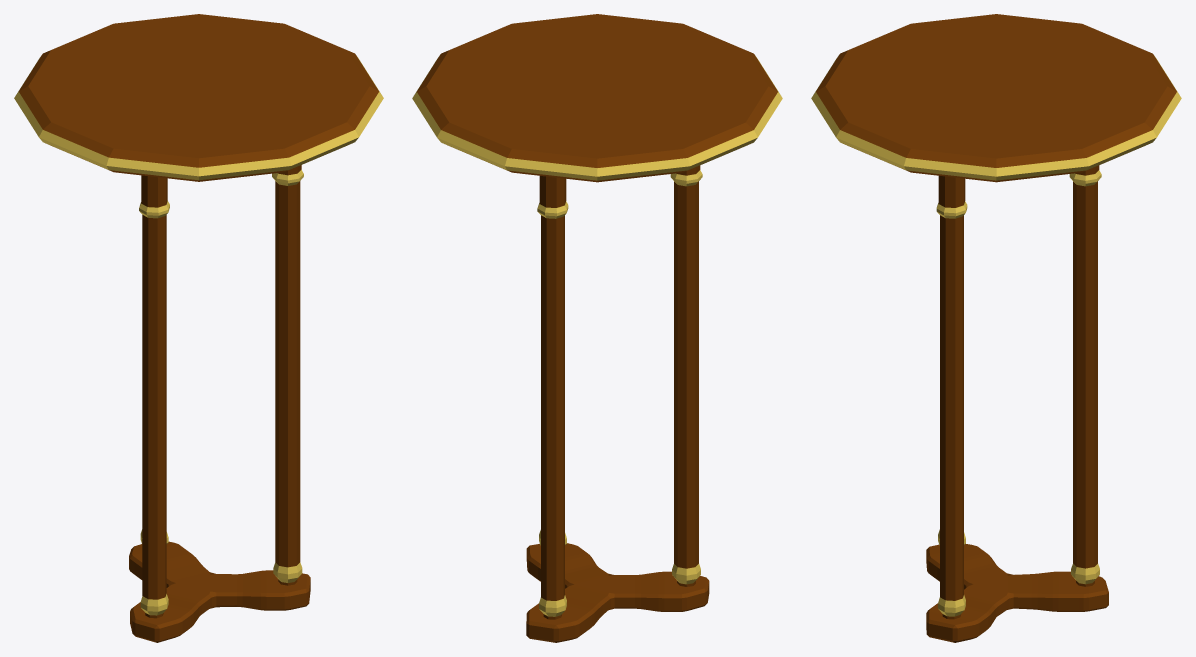
The model's file is Tall lil table.fbx.
The picture shows the model from 3 angles, left to right: view 1: azimuth 30°, elevation 25°; view 2: azimuth 150°, elevation 25°; view 3: azimuth 270°, elevation 25°; orthographic projection.
Visible parts, largest first — view 1: Cylinder.001; view 2: Cylinder.001; view 3: Cylinder.001.
Part boxes in pixels (left/top/right/bottom): Cylinder.001: left=14, top=14, right=383, bottom=642; Cylinder.001: left=412, top=14, right=782, bottom=642; Cylinder.001: left=811, top=14, right=1181, bottom=642.
Bounding box in the file's own units: 54.09 × 83 × 54.09.
